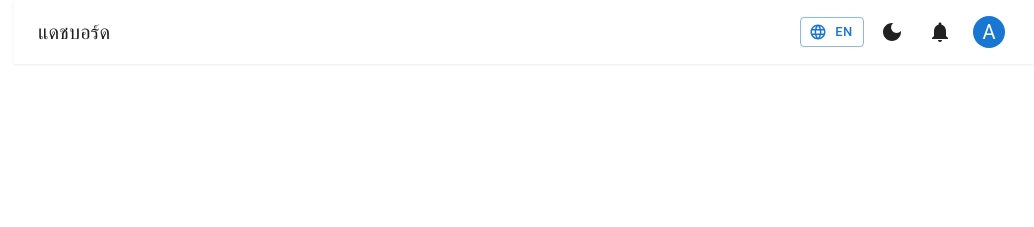
Scenario: Header › closes menu when clicking on menu item
Click the button "A". click: (989, 32)
box: [968,11,1010,53]
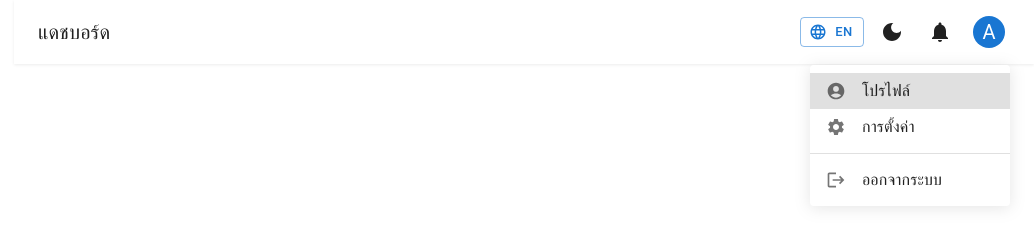
expect the menu item "โปรไฟล์" is shown: met
Click the menu item "โปรไฟล์". click: (910, 91)
box: [810,73,1010,109]
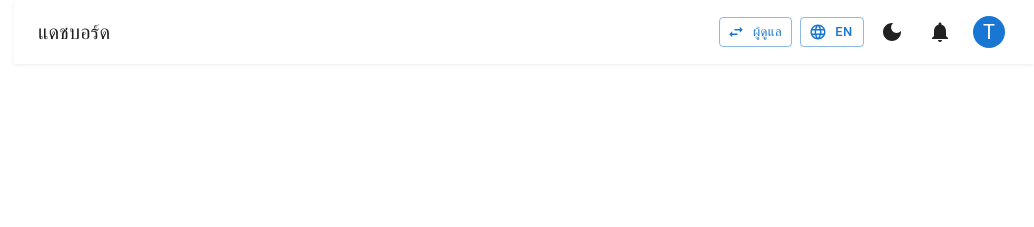
expect the menu item "โปรไฟล์" is gone: met
